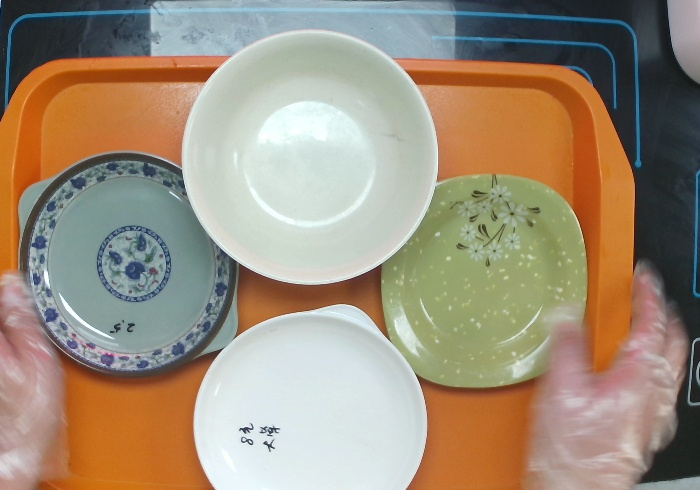NLDX-Bai_Se_Shuang_Er_Die: (183, 299, 431, 487)
NLDX-Bai_Se_Yuan_Wan: (178, 25, 440, 292)
NLDX-Lv_Hua_Fang_Die: (375, 169, 596, 397)
NLDX-Qing_Hua_Shuang_Er_Die: (13, 148, 244, 384)
